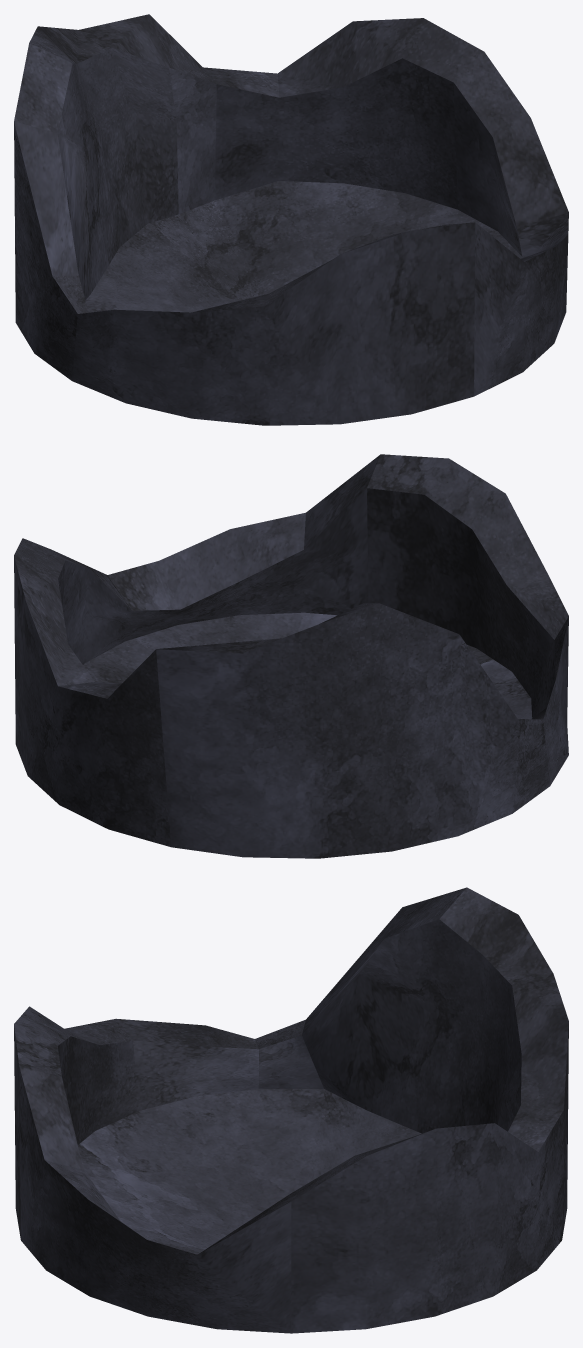
File: BGRock.obj
The picture shows the model from 3 angles, top to bottom: view 1: azimuth 30°, elevation 25°; view 2: azimuth 150°, elevation 25°; view 3: azimuth 270°, elevation 25°; orthographic projection.
Parts seen in each view (by area): view 1: 黒い所; view 2: 黒い所; view 3: 黒い所.
Part boxes in pixels (<box>): 黒い所: <box>14,14,568,425</box>; 黒い所: <box>14,454,568,858</box>; 黒い所: <box>14,887,568,1333</box>.
Size of the model in its own units: 6.55 by 3.66 by 6.59.
1 material, 1 textured.
